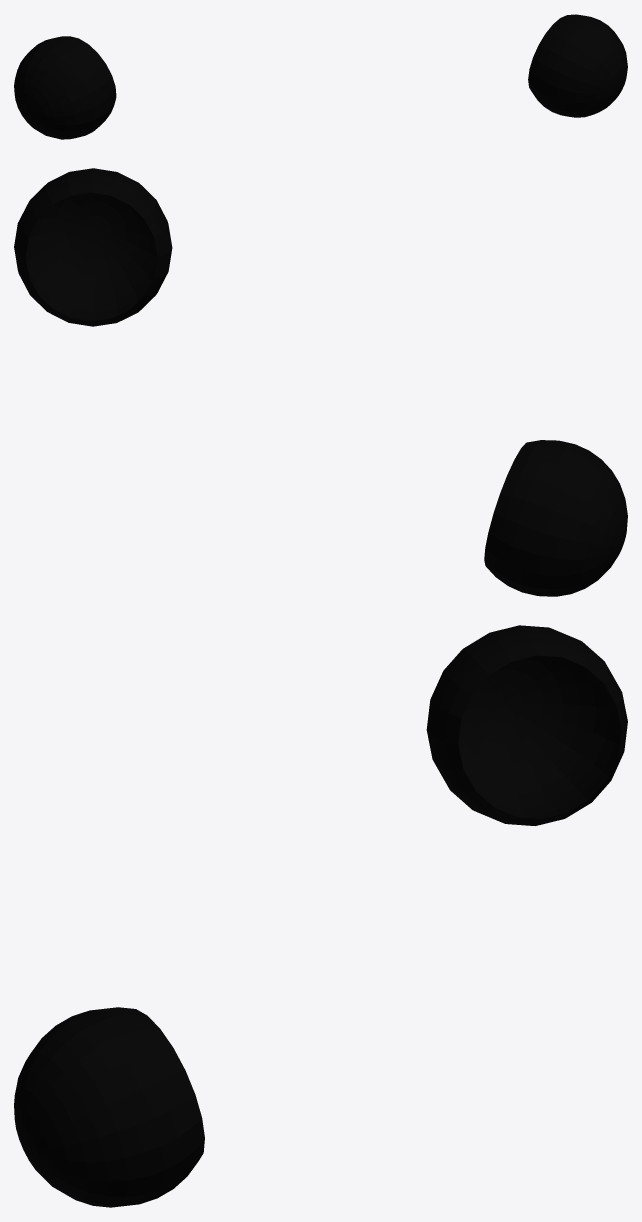
File: mesh8.dat.obj
3 views of the same model, one above another, from view 1: azimuth 30°, elevation 25°; view 2: azimuth 150°, elevation 25°; view 3: azimuth 270°, elevation 25° (orthographic). The views are drawn at different scales.
Visible parts, largest first — view 1: eyes; view 2: eyes; view 3: eyes.
Boxes of the visible parts, left/top/right/bottom form: eyes: left=14, top=14, right=627, bottom=139; eyes: left=14, top=168, right=627, bottom=596; eyes: left=14, top=625, right=627, bottom=1207.
Bounding box in the file's own units: 0.9114 × 0.1674 × 0.5054.
Materials: 1 (1 with a texture image).
